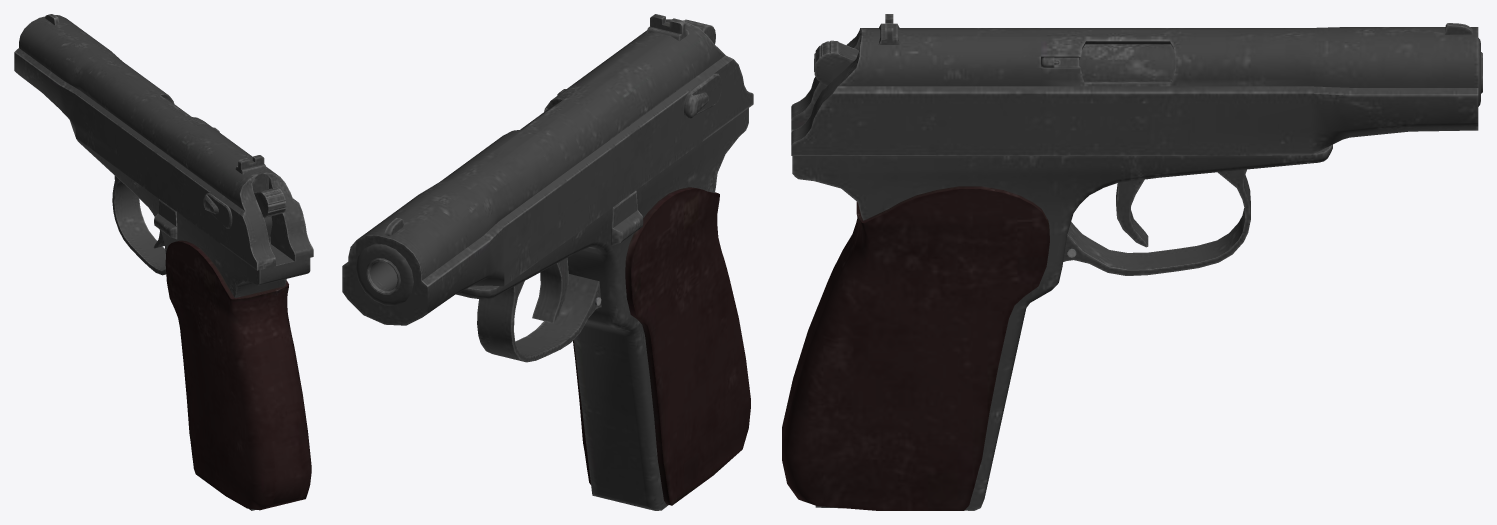
Rendered from bunker47-gun-pistol_mk.glb.
The picture shows the model from 3 angles, left to right: view 1: azimuth 30°, elevation 25°; view 2: azimuth 150°, elevation 25°; view 3: azimuth 270°, elevation 25°; orthographic projection. The views are drawn at different scales.
Parts seen in each view (by area): view 1: Body, Slide, Hammer, Safety; view 2: Body, Slide, Trigger, Barrel, Safety; view 3: Body, Slide, Barrel, Hammer, Trigger.
Part boxes in pixels (x1,y1,x2,y2): Body: [76, 138, 311, 510]; Slide: [14, 14, 313, 270]; Hammer: [254, 187, 286, 241]; Safety: [203, 193, 232, 228]; Body: [456, 108, 750, 510]; Slide: [342, 14, 753, 325]; Trigger: [532, 258, 568, 323]; Barrel: [366, 104, 556, 294]; Safety: [684, 73, 721, 118]; Body: [782, 144, 1332, 510]; Slide: [791, 14, 1480, 155]; Barrel: [1079, 44, 1482, 93]; Hammer: [814, 40, 858, 85]; Trigger: [1116, 179, 1148, 247].
Bounding box in the file's own units: 2.57 × 12.53 × 16.85.
1 material, 1 textured.
